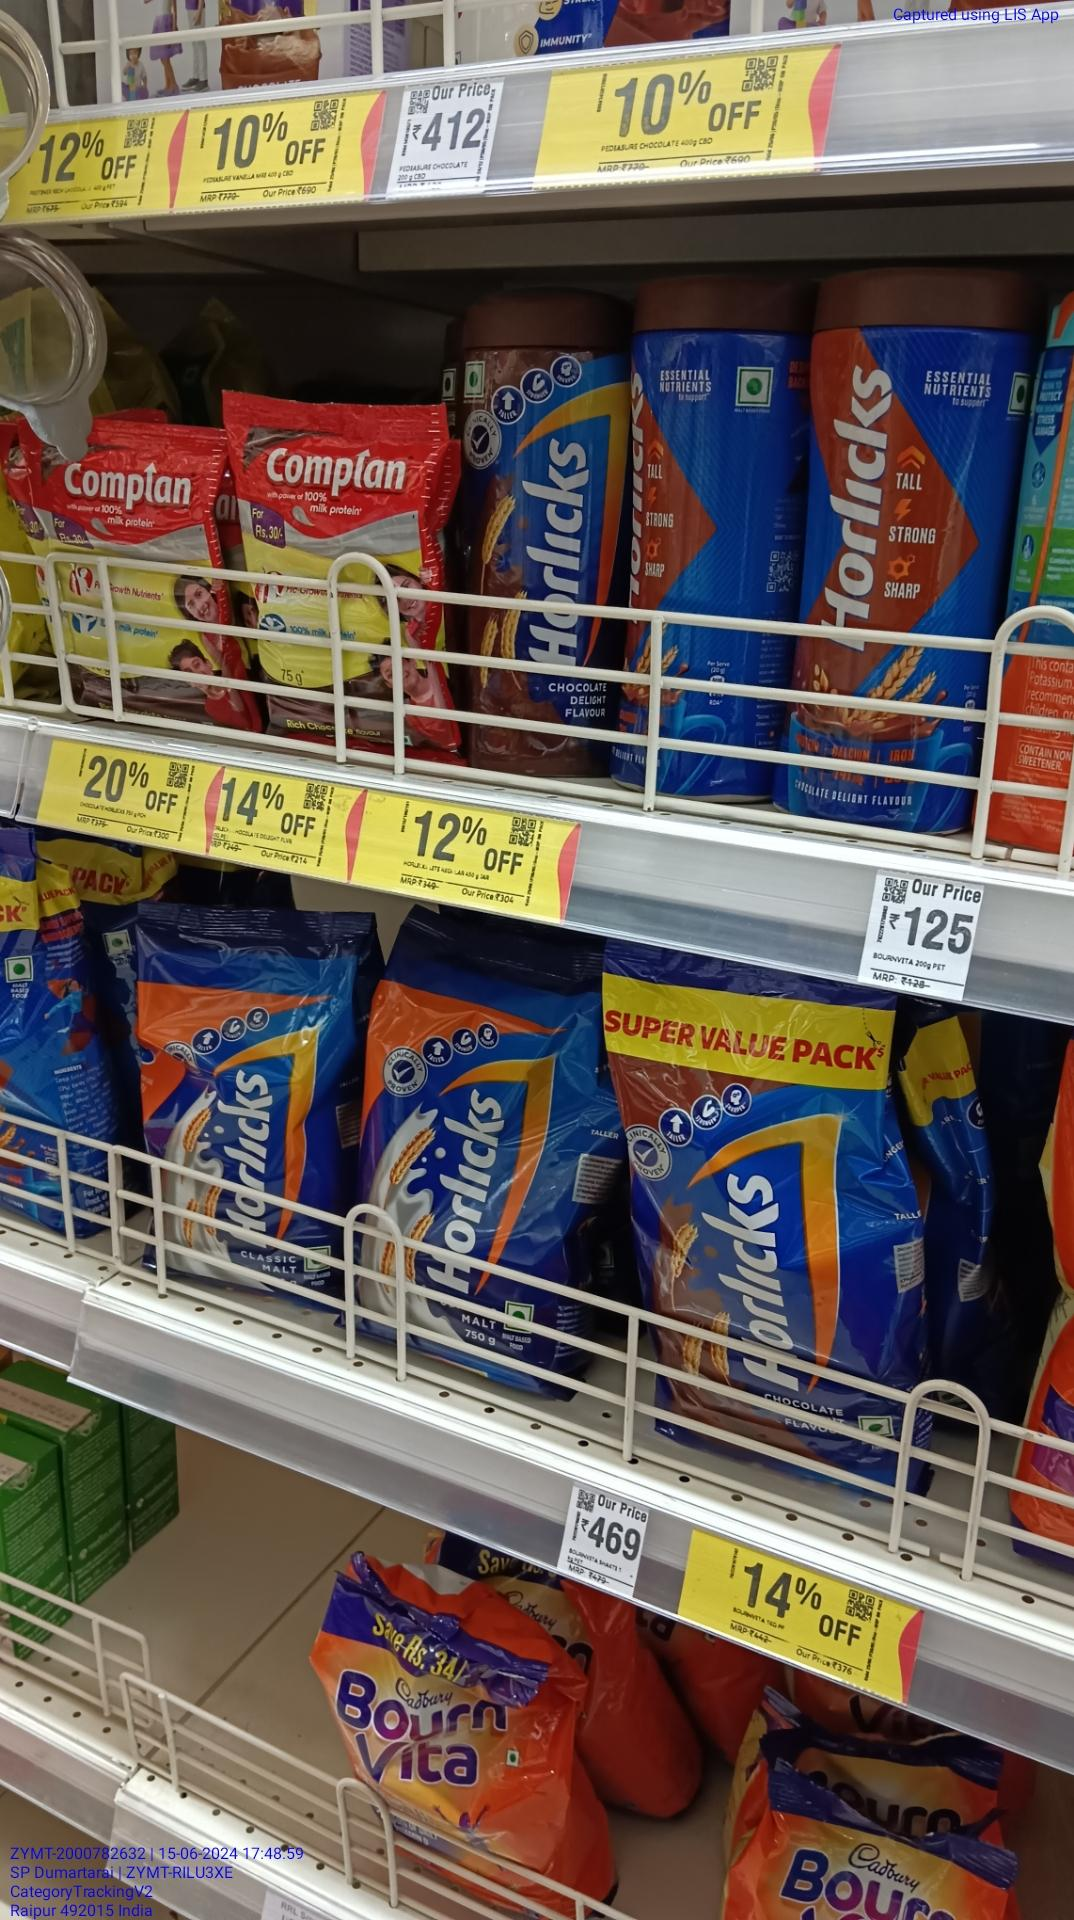HORLICK_CHOCOLATE_1_KG_JAR: (785, 280, 978, 812)
